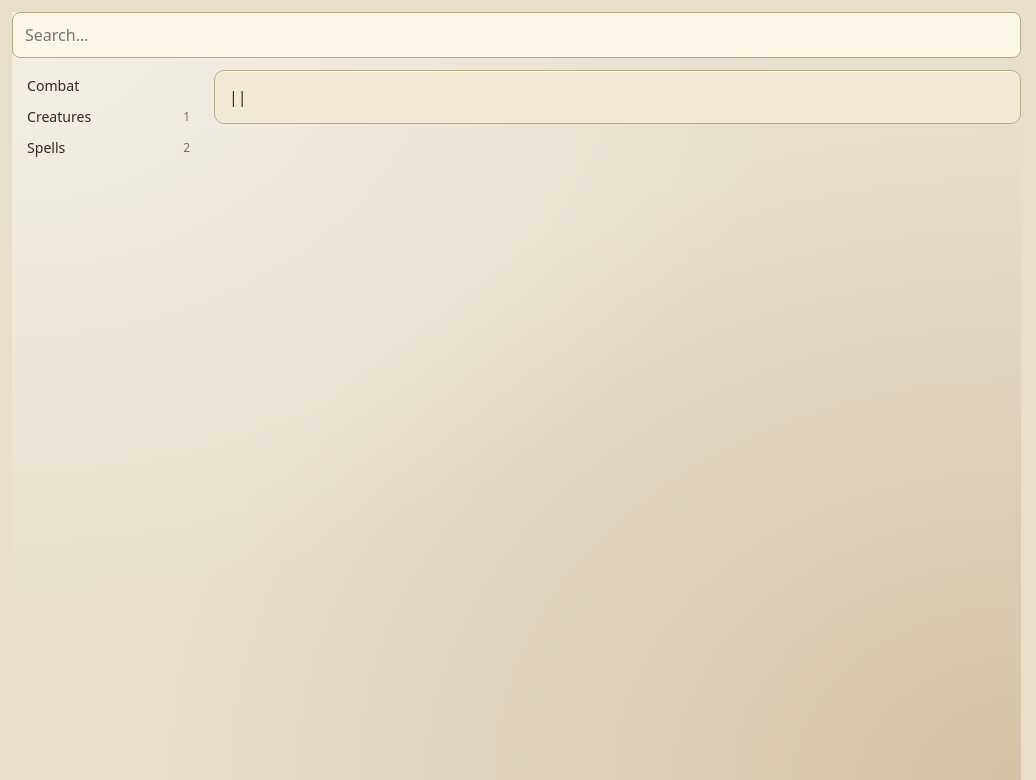
it: the search of the Reference › is one for everything: it lists matches from every category, each with the category it is in
Type "fire" into the search field with test id "ref-search" showing "Search…" at (516, 35), box [12,12,1021,58]
Wait 400 ms
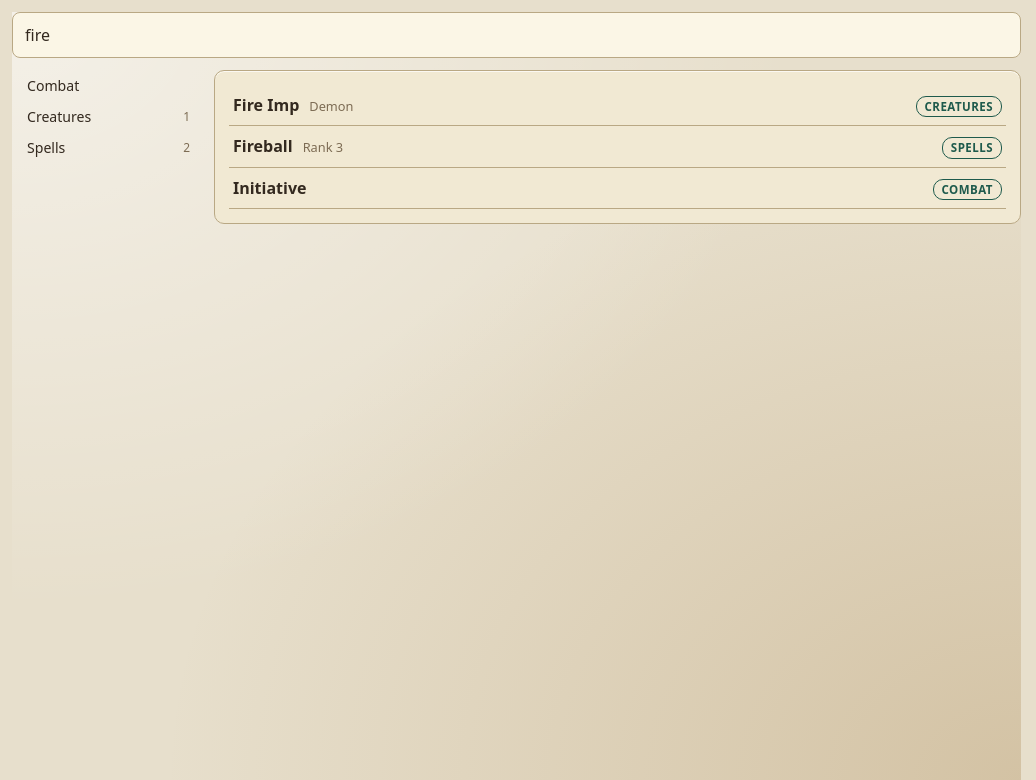
Check: the button with test id "ref-hit" shows "Combat", box [229,168,1006,209]
Check: the button with test id "ref-hit" shows "Spells", box [229,126,1006,168]
